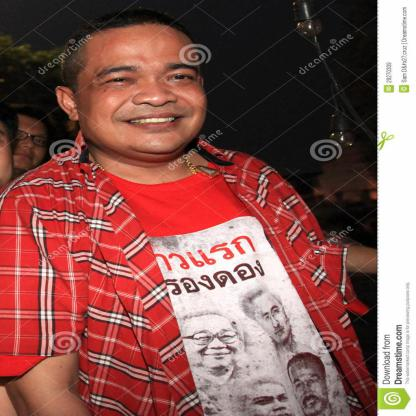face: (81, 29, 204, 158), (185, 320, 242, 368), (8, 119, 50, 171), (295, 366, 329, 415), (257, 303, 292, 342)
